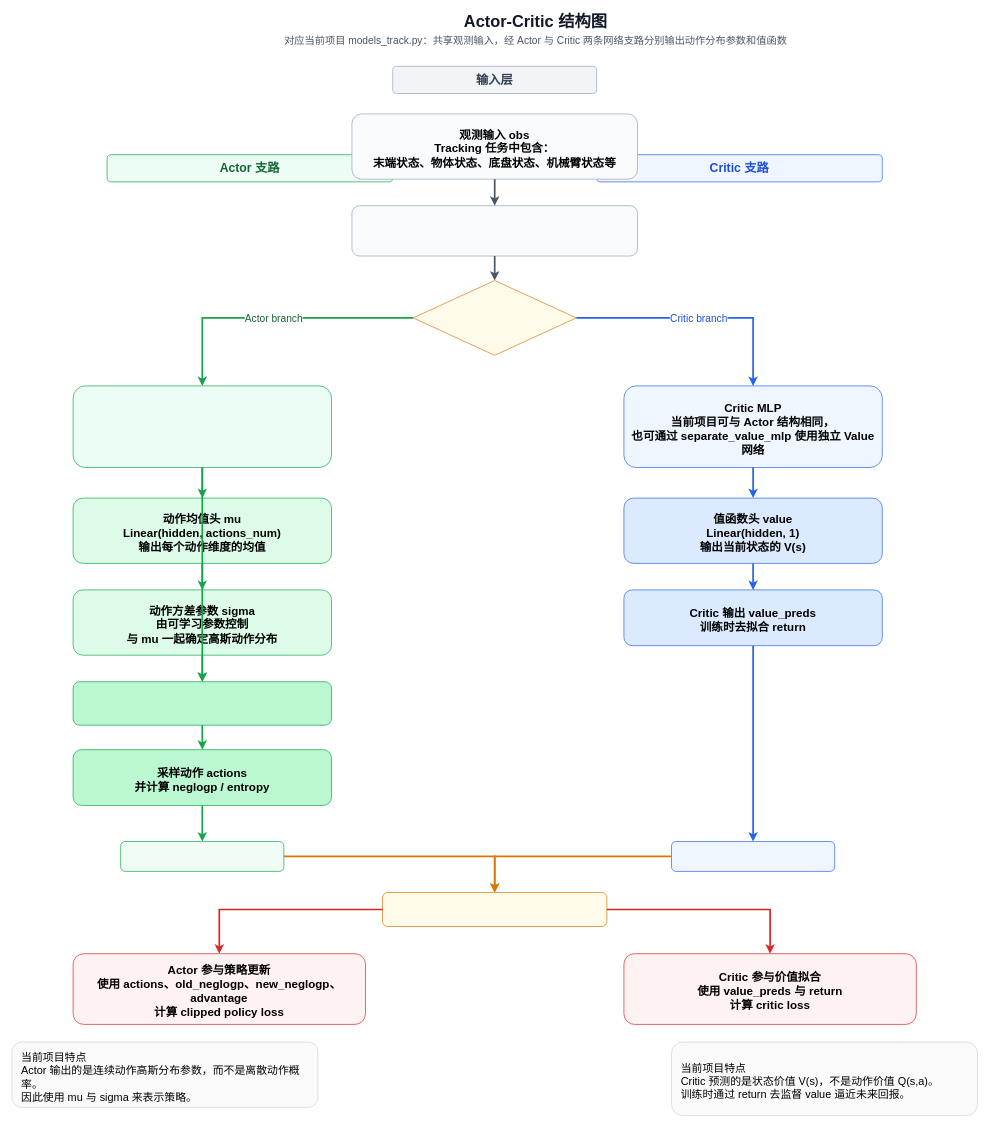
Some shapes in this 989 by 1127 pixel diagram are drawn without their labels. Here are the shapes that lost their labels. From the top down, the centre of each, then its label:
point (494, 230): RunningMeanStd 标准化 先对观测做归一化，再送入网络
point (494, 317): 共享输入 分成两条支路
point (202, 426): Actor MLP 当前项目默认结构： Linear -> ELU -> Linear -> ELU 隐藏层规模如 [256, 128]
point (202, 703): 构造动作分布 Normal(mu, sigma)
point (202, 856): Actor 输出
point (753, 856): Critic 输出
point (494, 909): 送入 PPO 训练
